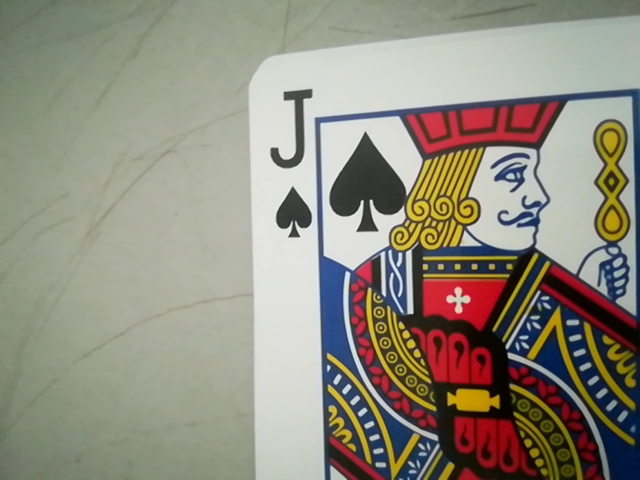ht j: (256, 85, 322, 244)
